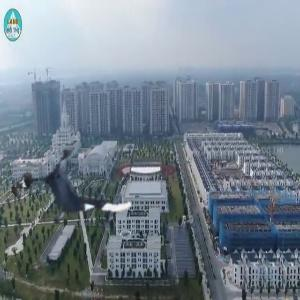drone: (29, 139, 132, 242)
